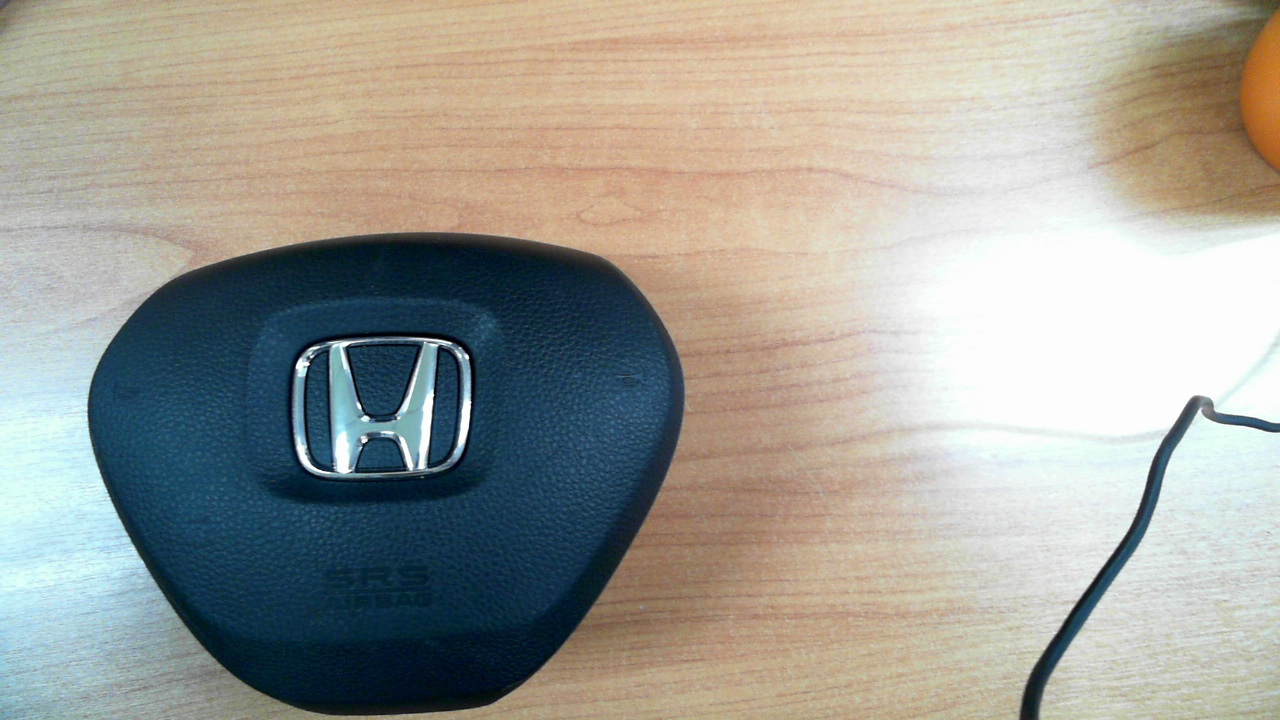Airbag: (86, 231, 686, 718)
Honda: (291, 335, 473, 479)
